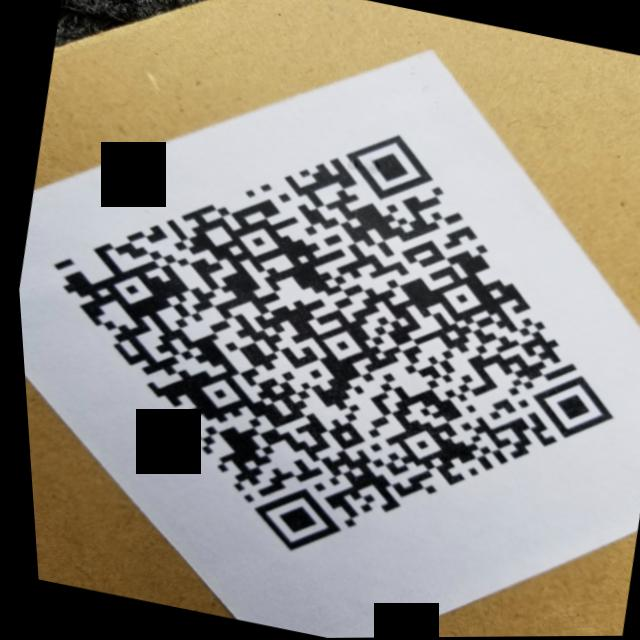QR_CODE: (2, 43, 640, 623)
